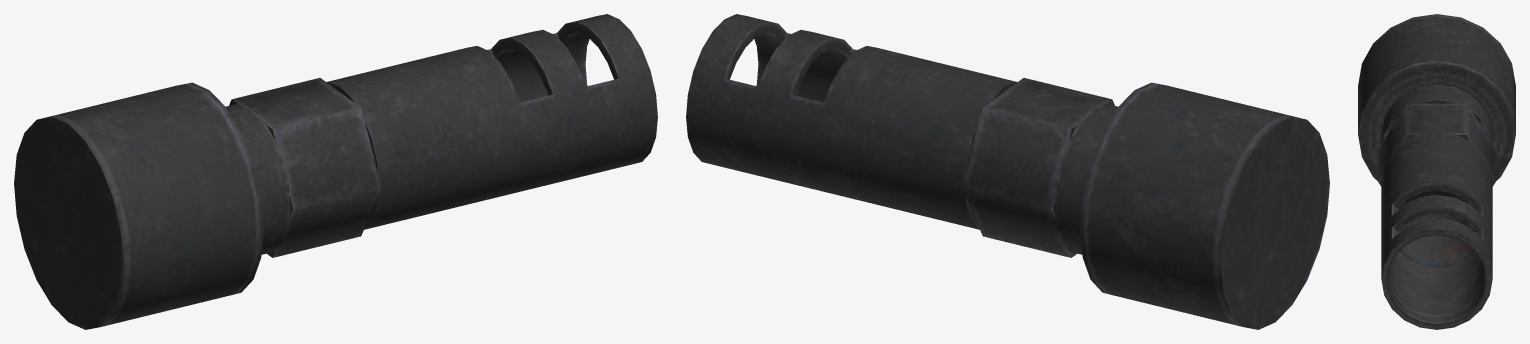
The model's file is ST_Muzzle_Compensater_M.FBX.
The picture shows the model from 3 angles, left to right: view 1: azimuth 30°, elevation 25°; view 2: azimuth 150°, elevation 25°; view 3: azimuth 270°, elevation 25°; orthographic projection. The views are drawn at different scales.
Parts seen in each view (by area): view 1: ST_Muzzle_Compensater_M; view 2: ST_Muzzle_Compensater_M; view 3: ST_Muzzle_Compensater_M.
Part boxes in pixels (bbox=[...]): ST_Muzzle_Compensater_M: bbox=[14, 14, 657, 329]; ST_Muzzle_Compensater_M: bbox=[686, 14, 1329, 329]; ST_Muzzle_Compensater_M: bbox=[1358, 14, 1515, 329].
Size of the model in its own units: 6.4 by 2.2 by 2.2.
Materials: 1 (1 with a texture image).
